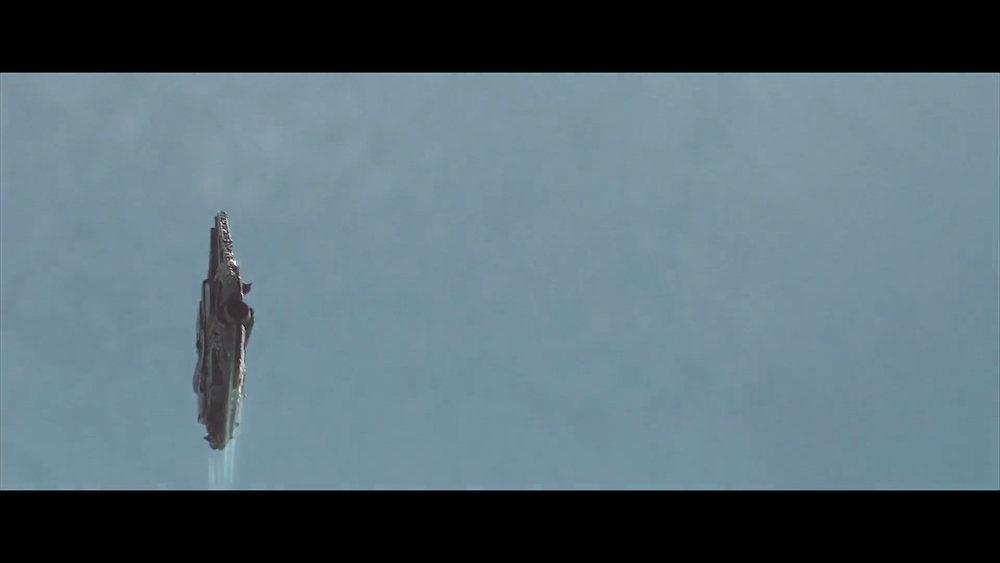Millennium Falcon: (192, 210, 258, 452)
